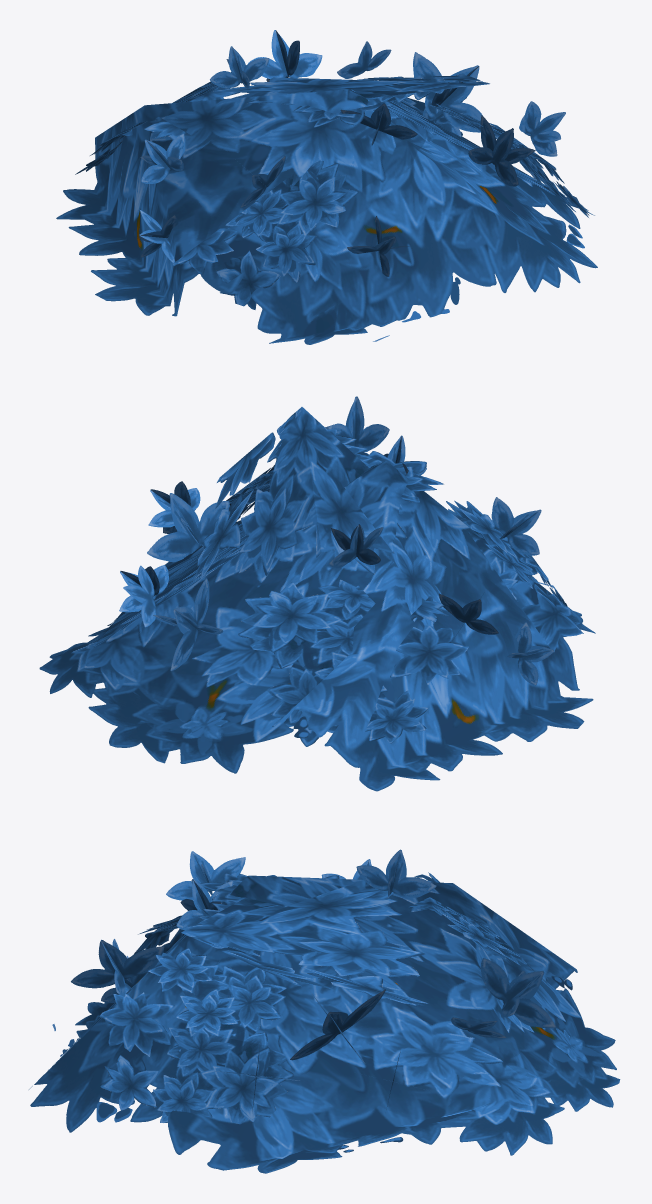
The model's file is 1_Arbusto_Azul_LOD_1.fbx.
The picture shows the model from 3 angles, top to bottom: view 1: azimuth 30°, elevation 25°; view 2: azimuth 150°, elevation 25°; view 3: azimuth 270°, elevation 25°; orthographic projection. The views are drawn at different scales.
Parts seen in each view (by area): view 1: 1_Arbusto_Azul_LOD_1; view 2: 1_Arbusto_Azul_LOD_1; view 3: 1_Arbusto_Azul_LOD_1.
Boxes of the visible parts, x1,y1,x2,y2 form: 1_Arbusto_Azul_LOD_1: [56, 30, 597, 344]; 1_Arbusto_Azul_LOD_1: [39, 396, 595, 791]; 1_Arbusto_Azul_LOD_1: [29, 849, 620, 1173].
Bounding box in the file's own units: 448 × 174 × 470.
